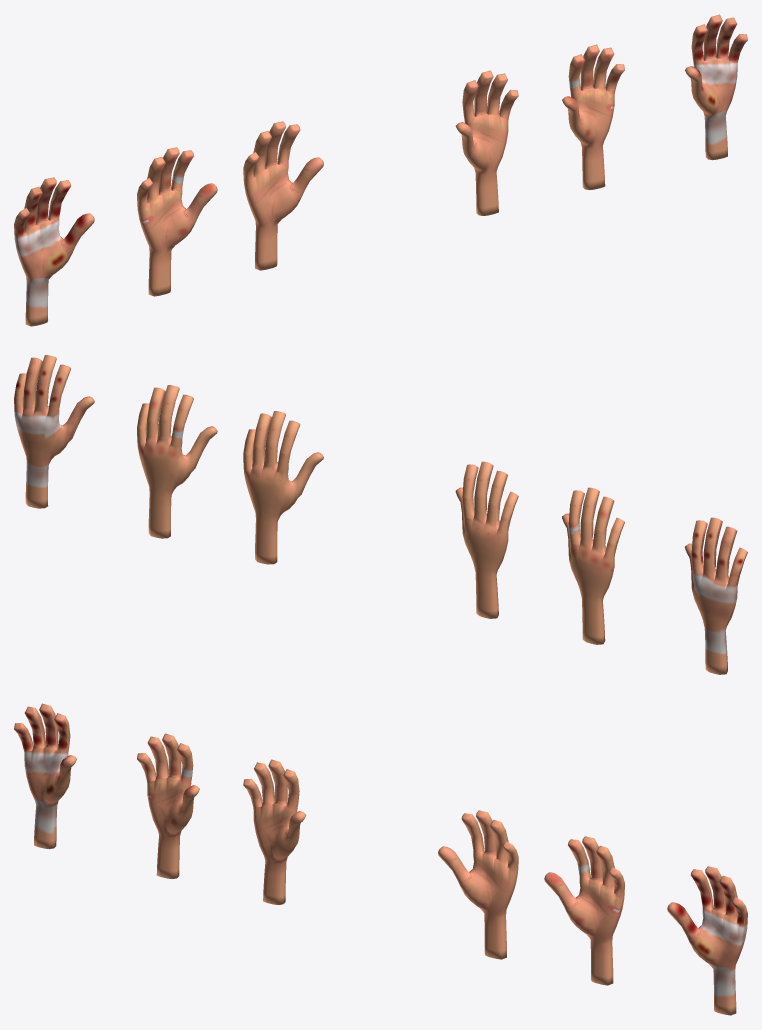
File: MANOS DERECHA Y IZQUIERDA.glb
3 renders of one model, top to bottom at view 1: azimuth 30°, elevation 25°; view 2: azimuth 150°, elevation 25°; view 3: azimuth 330°, elevation 25°, orthographic.
Visible parts, largest first — view 1: Plane.006, Plane.001, Plane.005, Plane.003, Plane.004, Plane.002; view 2: Plane.002, Plane.004, Plane.003, Plane.005, Plane.001, Plane.006; view 3: Plane.002, Plane.004, Plane.003, Plane.005, Plane.001, Plane.006.
Part boxes in pixels (box(x1,y1,x2,y2)): Plane.006: box(243, 121, 323, 270); Plane.001: box(14, 177, 94, 326); Plane.005: box(137, 147, 217, 296); Plane.003: box(562, 44, 624, 189); Plane.004: box(685, 14, 747, 160); Plane.002: box(455, 70, 518, 215); Plane.002: box(243, 411, 323, 564); Plane.004: box(14, 355, 94, 508); Plane.003: box(137, 385, 217, 538); Plane.005: box(562, 487, 624, 644); Plane.001: box(684, 517, 747, 674); Plane.006: box(455, 461, 518, 618); Plane.002: box(438, 810, 518, 959); Plane.004: box(667, 866, 747, 1015); Plane.003: box(544, 836, 624, 985); Plane.005: box(137, 733, 199, 878); Plane.001: box(14, 703, 76, 849); Plane.006: box(243, 759, 306, 904).
Size of the model in its own units: 1.31 by 0.2533 by 0.0669.
Materials: 3 (3 with a texture image).
